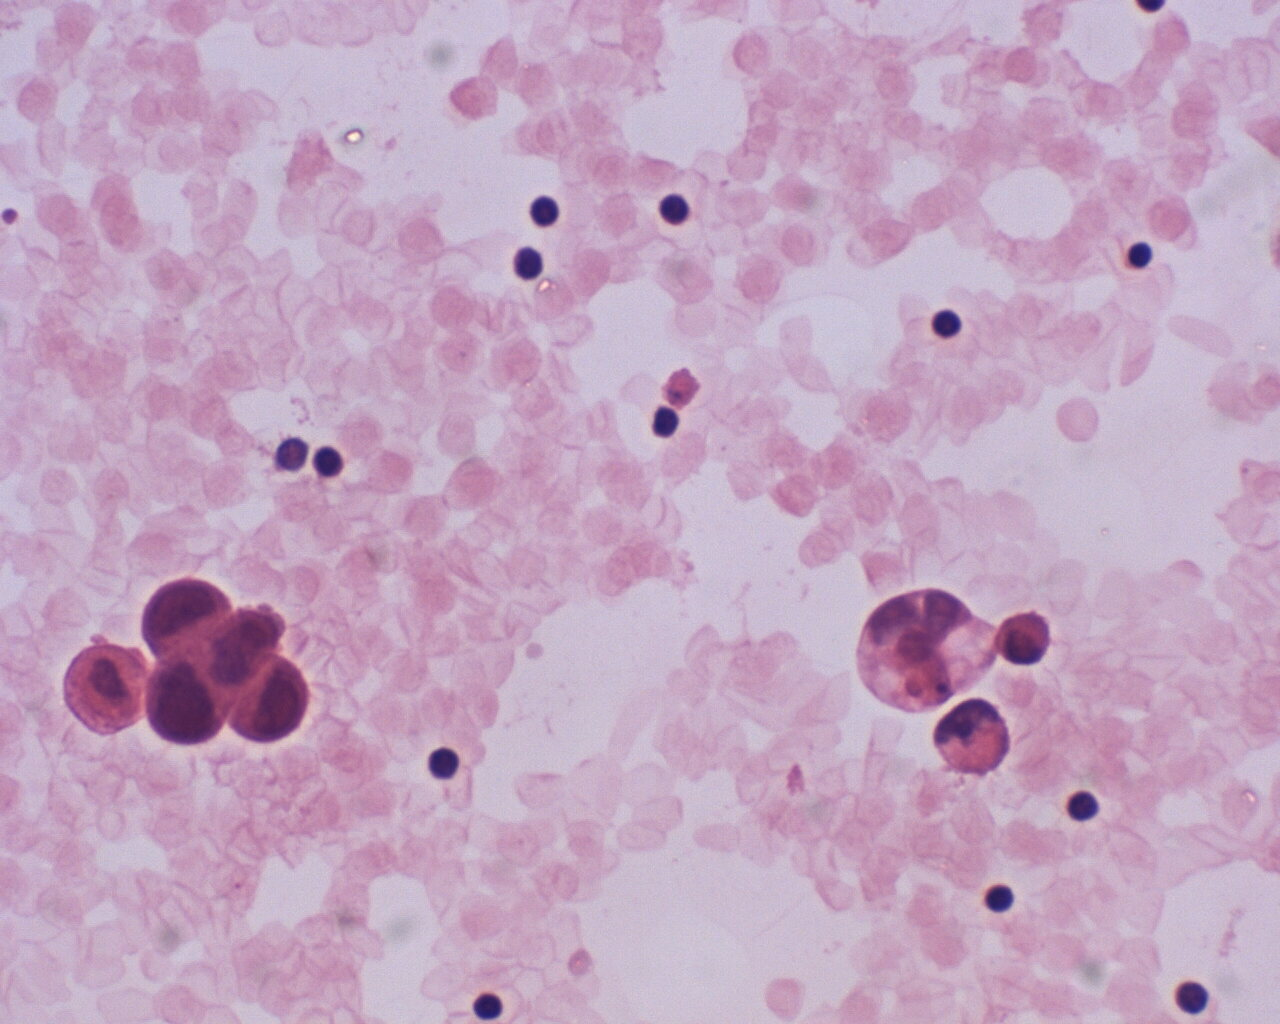ab: (848, 581, 994, 715), (139, 651, 223, 750), (933, 689, 1018, 779), (138, 578, 233, 656), (229, 659, 312, 747)
lymph: (923, 298, 975, 347), (971, 878, 1027, 922), (653, 185, 704, 230), (418, 743, 466, 785), (507, 243, 554, 284)
